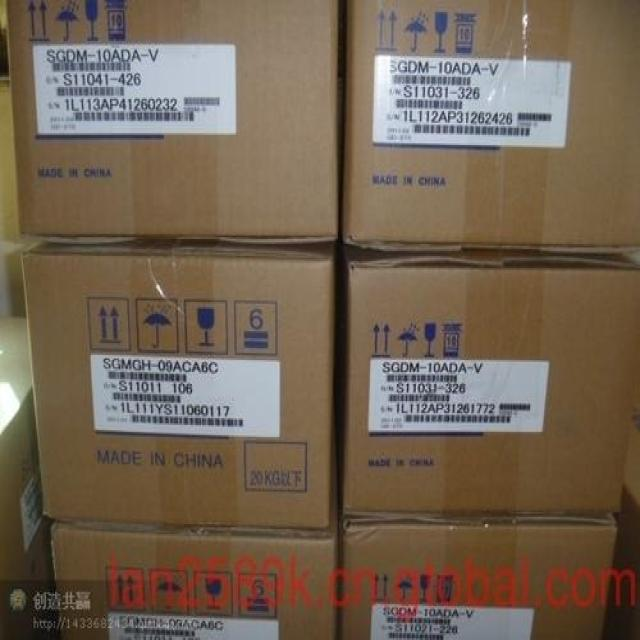box: (18, 247, 339, 529), (4, 0, 342, 251), (339, 251, 637, 517), (339, 0, 639, 258), (50, 451, 338, 638), (338, 515, 618, 638), (0, 312, 61, 638), (622, 258, 639, 567)
